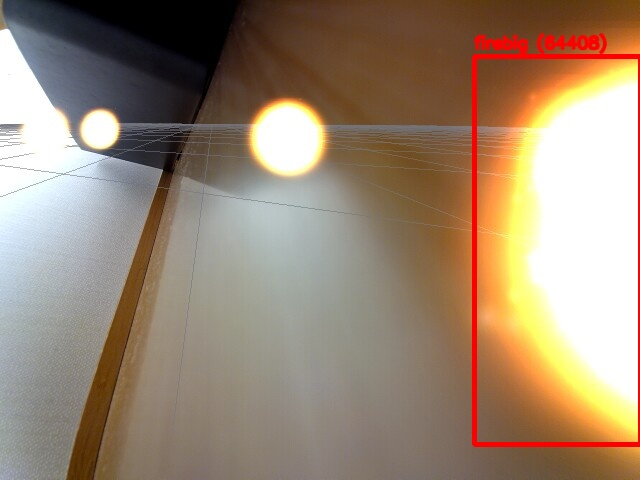firebig: (474, 56, 640, 444)
